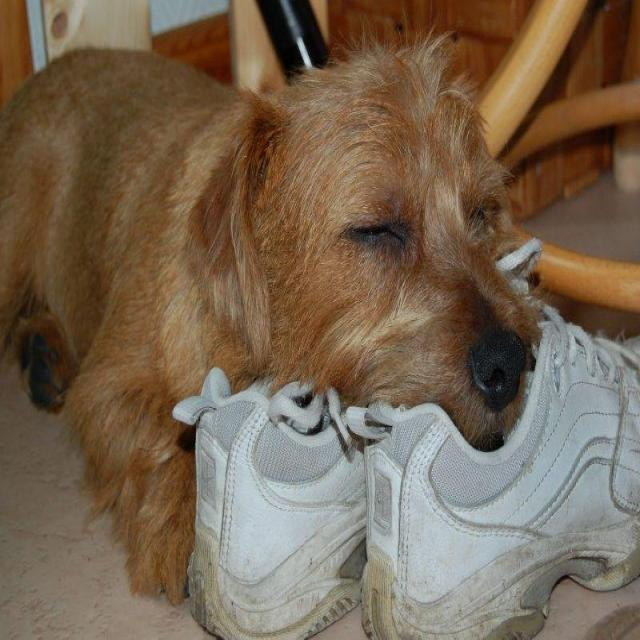dogs: (32, 30, 552, 558)
